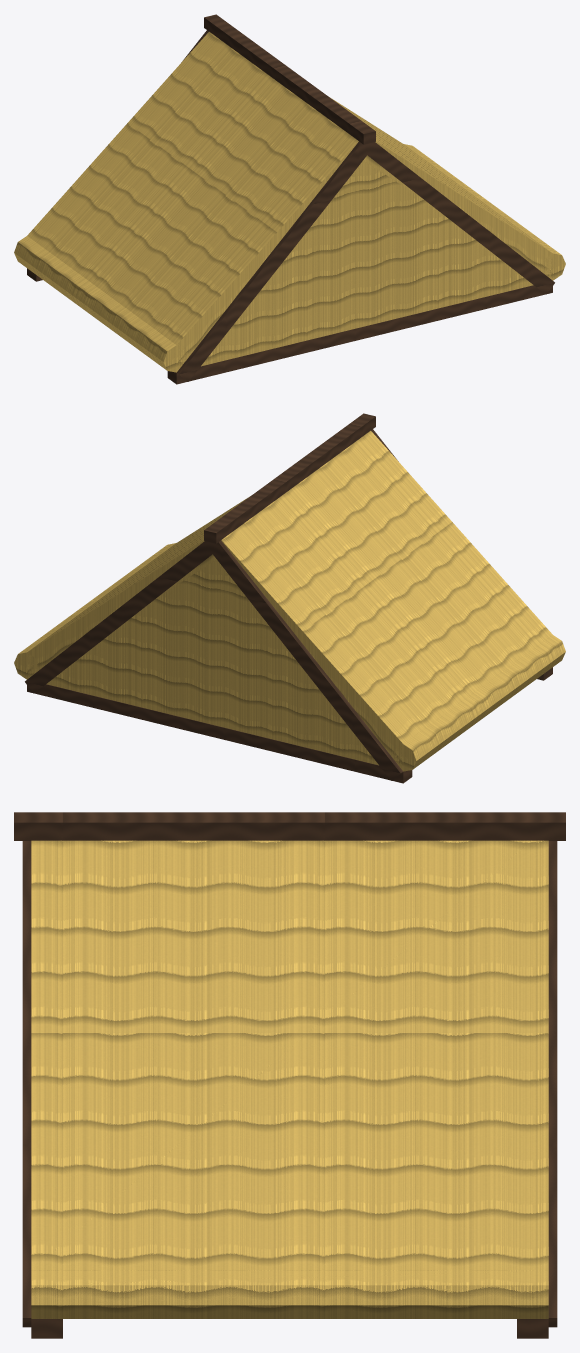
File: roof_thatch_gable.glb
3 renders of one model, top to bottom at view 1: azimuth 30°, elevation 25°; view 2: azimuth 150°, elevation 25°; view 3: azimuth 270°, elevation 25°, orthographic. The views are drawn at different scales.
Parts seen in each view (by area): view 1: roof_thatch_gable_0; view 2: roof_thatch_gable_0; view 3: roof_thatch_gable_0.
Part boxes in pixels (x1,y1,x2,y2): roof_thatch_gable_0: [14, 14, 565, 384]; roof_thatch_gable_0: [14, 413, 565, 783]; roof_thatch_gable_0: [14, 812, 565, 1338].
Size of the model in its own units: 4.6 by 2.29 by 3.16.
2 materials, 2 textured.
